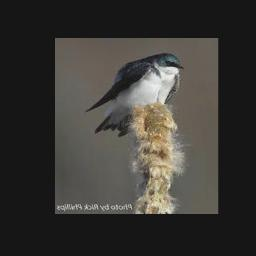Swallow: (85, 52, 186, 136)
